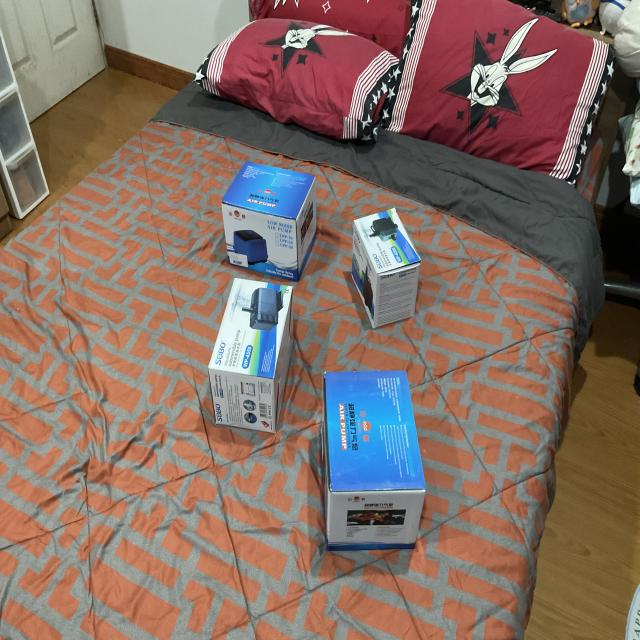SOBO_WP_4200: (198, 261, 309, 434), (344, 192, 438, 340)
YAMANO_LPP_20: (312, 356, 426, 560), (214, 147, 329, 279)
